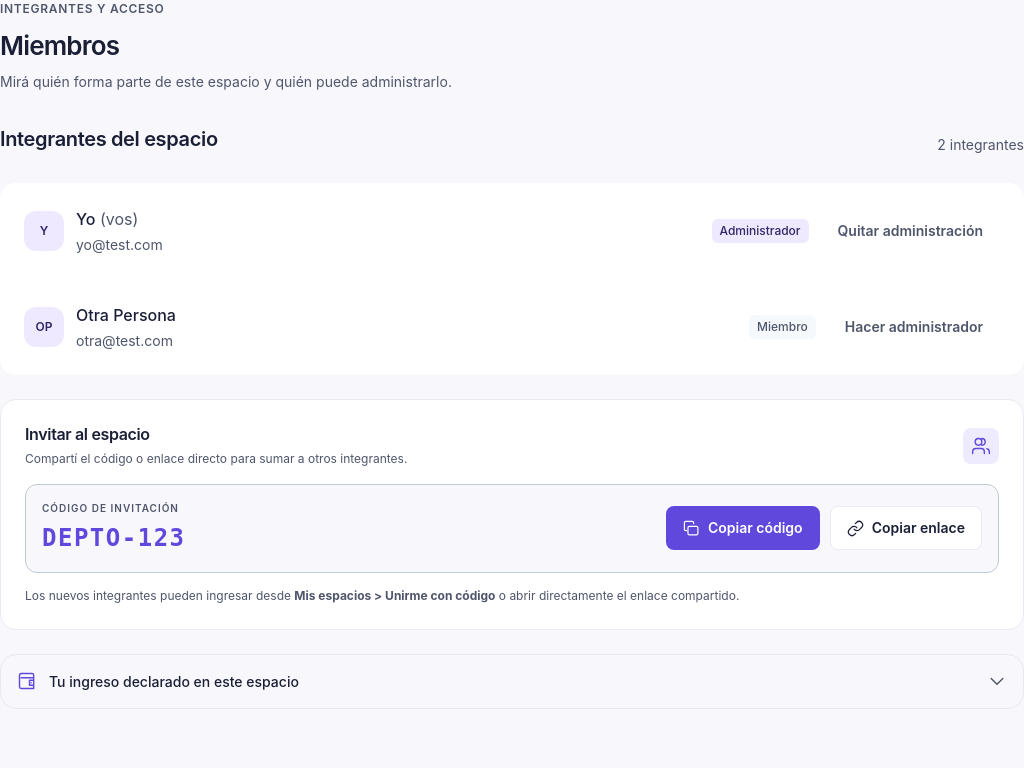
MembersPage › explica las consecuencias antes de confirmar un ascenso a administrador
Click the button with aria-label "hacer administrador a otra persona". click: [914, 327]
box: [828, 305, 1000, 349]
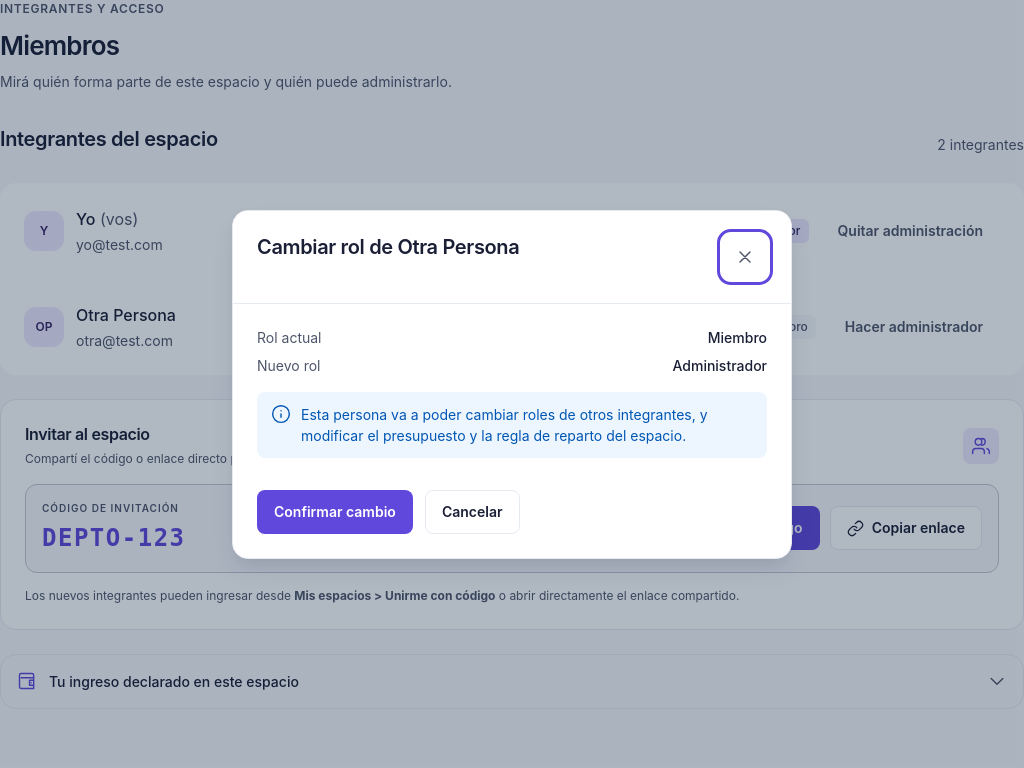
Expected: the text "va a poder cambiar roles" is shown, [301, 406, 708, 444]
